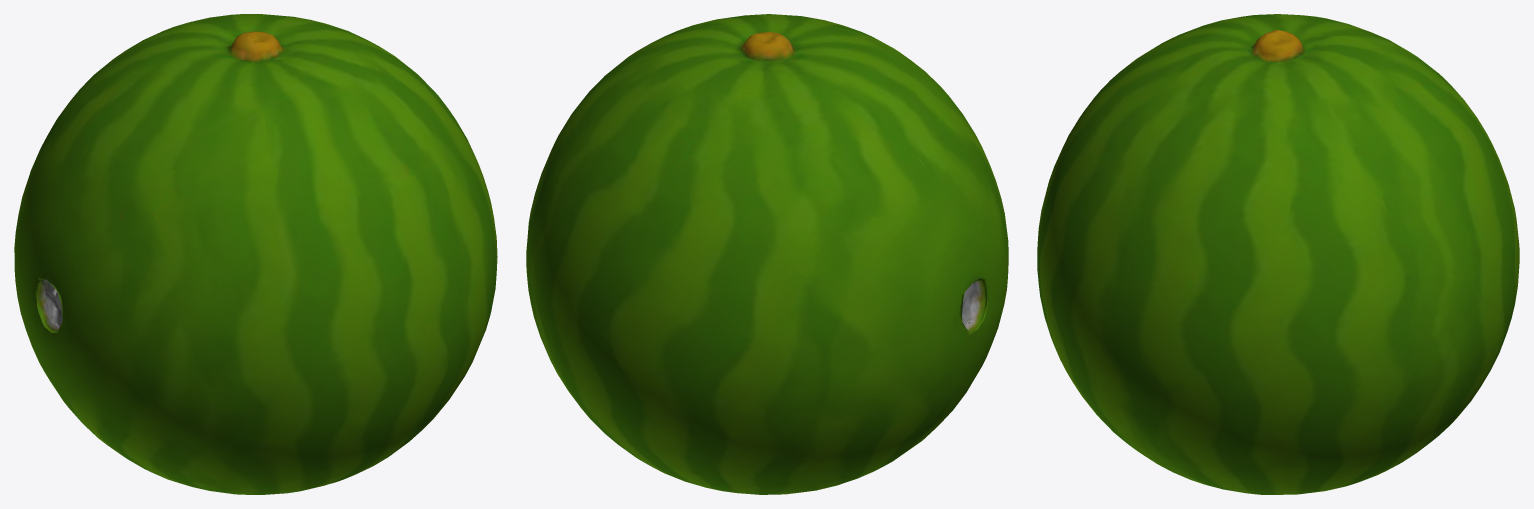
File: food_watermelon.glb
3 views of the same model, side by side, from view 1: azimuth 30°, elevation 25°; view 2: azimuth 150°, elevation 25°; view 3: azimuth 270°, elevation 25° (orthographic).
Parts seen in each view (by area): view 1: tripo_node_832406a9-5f39-49a2-a5a5-d6c084d86e89; view 2: tripo_node_832406a9-5f39-49a2-a5a5-d6c084d86e89; view 3: tripo_node_832406a9-5f39-49a2-a5a5-d6c084d86e89.
Part boxes in pixels (x1,y1,x2,y2): tripo_node_832406a9-5f39-49a2-a5a5-d6c084d86e89: (14,14,497,494); tripo_node_832406a9-5f39-49a2-a5a5-d6c084d86e89: (526,14,1008,494); tripo_node_832406a9-5f39-49a2-a5a5-d6c084d86e89: (1037,14,1519,494).
Size of the model in its own units: 0.2973 by 0.3 by 0.2982.
1 material, 1 textured.
